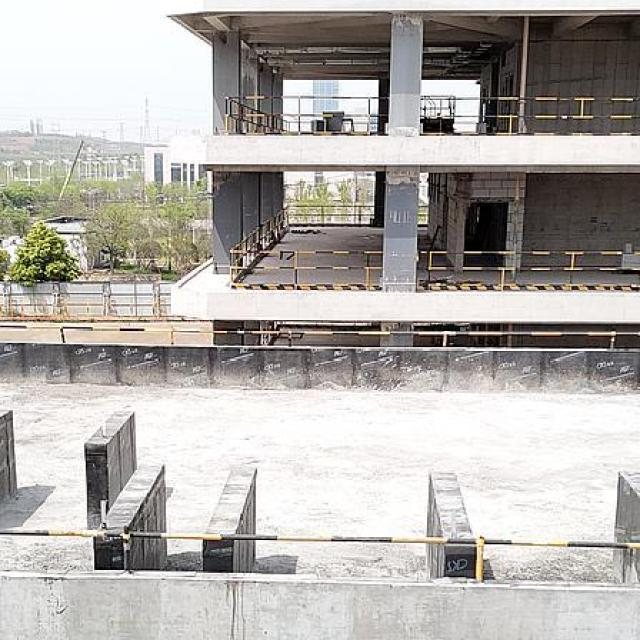edge_guardrail: (0, 525, 640, 584), (0, 324, 640, 351), (228, 226, 383, 286), (420, 96, 640, 133), (415, 249, 640, 284), (224, 96, 390, 131), (262, 205, 374, 239), (260, 111, 271, 128), (417, 205, 430, 216)
